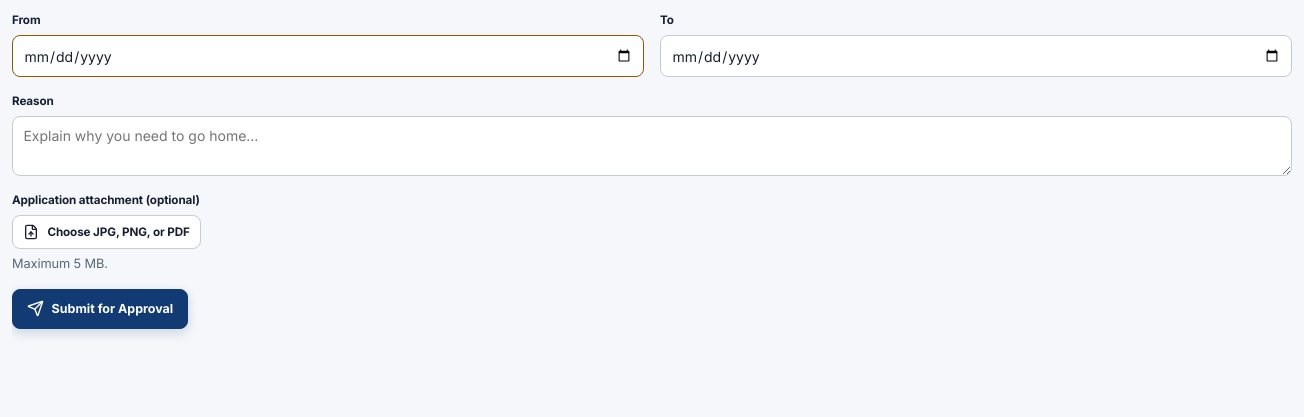
Test: LeaveRequestForm › clears the form only after a successful submission
Type "2026-08-30" into the date field labelled "From" at coordinates (328, 56), box [12,35,644,77]
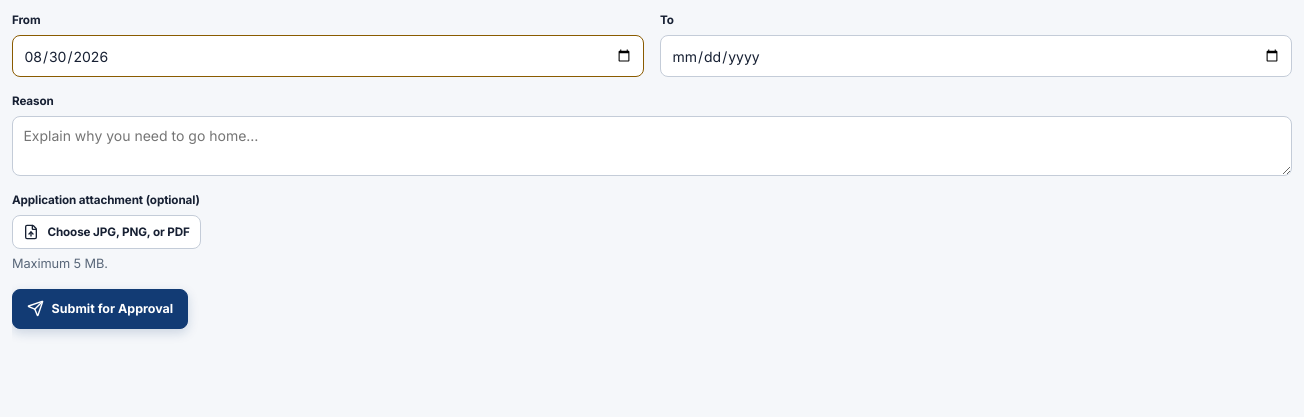
Type "2026-08-31" into the date field labelled "To" at coordinates (976, 56), box [660,35,1292,77]
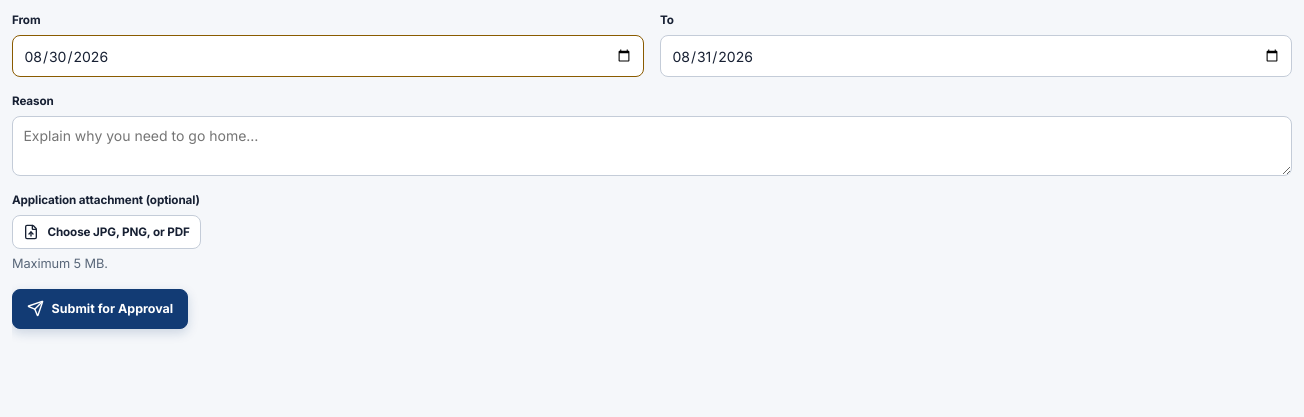
Type "Visiting family for Janmashtami." into the text box labelled "Reason" at coordinates (652, 146), box [12,116,1292,176]
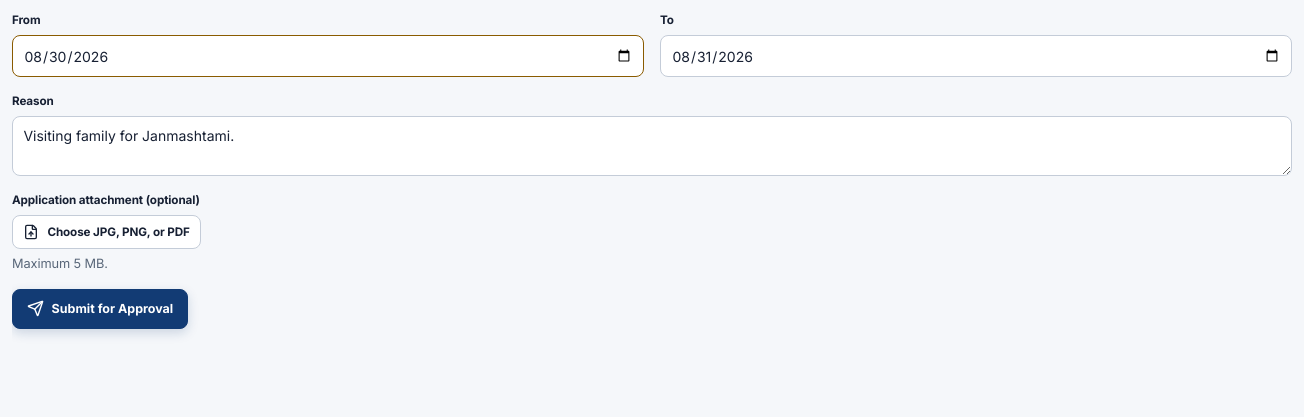
Submit the form named "Submit for Approval"
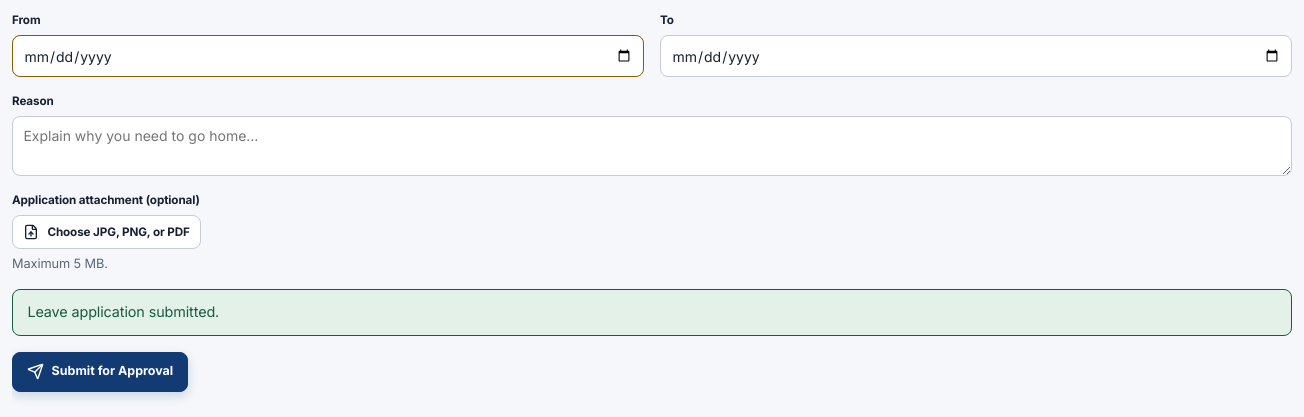
expect the message reads "Leave application submitted.": met, box [27,303,219,320]
expect the date field labelled "From" is empty: met, box [12,35,644,77]
expect the date field labelled "To" is empty: met, box [660,35,1292,77]
